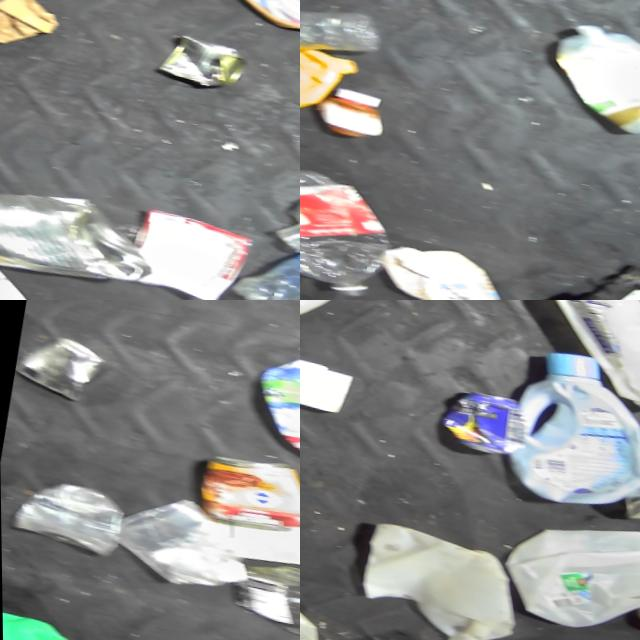can: (0, 174, 147, 294), (6, 471, 138, 564), (194, 450, 300, 538), (429, 381, 532, 462), (13, 331, 120, 403), (155, 30, 253, 90)
milk_jug: (350, 518, 525, 640), (497, 508, 640, 640), (542, 17, 640, 141), (537, 300, 640, 417)
non_white_jug: (496, 345, 640, 514), (249, 347, 300, 480), (300, 21, 357, 130), (1, 603, 70, 640)
plastic_bottle: (300, 157, 397, 299), (300, 0, 386, 66), (231, 218, 300, 300)
